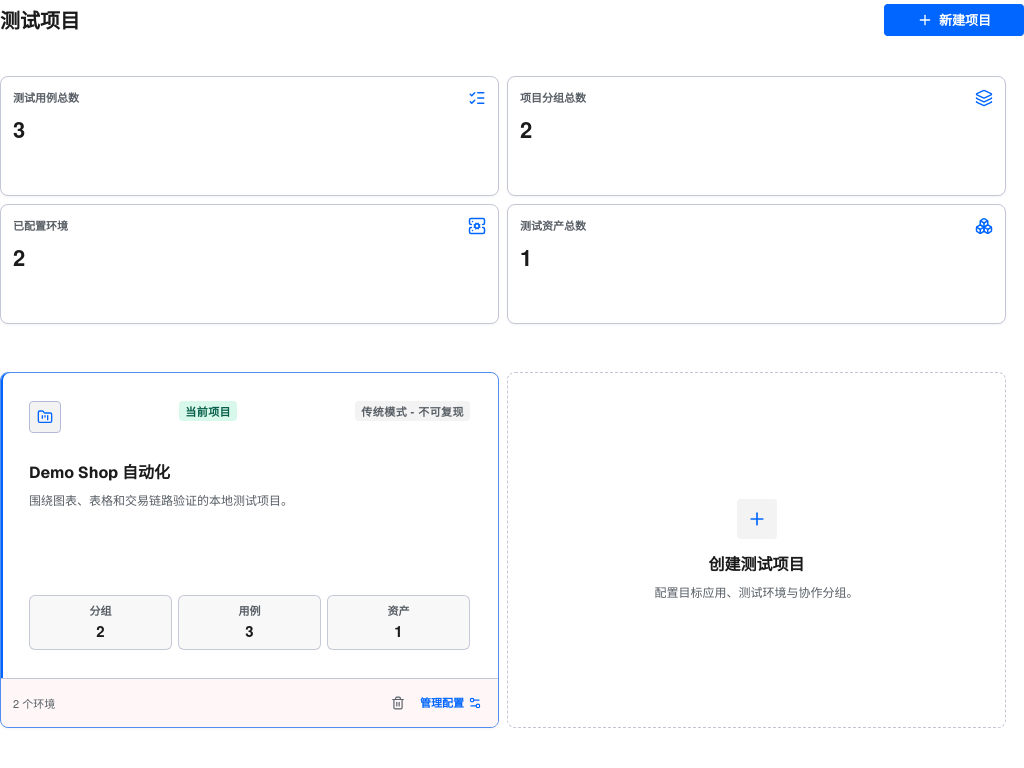
it: ProjectManagementPage › captures, refreshes, and revokes a browser authentication state without exposing its contents
Step 1. Click the button "管理配置" → (451, 703), box [416,691,486,715]
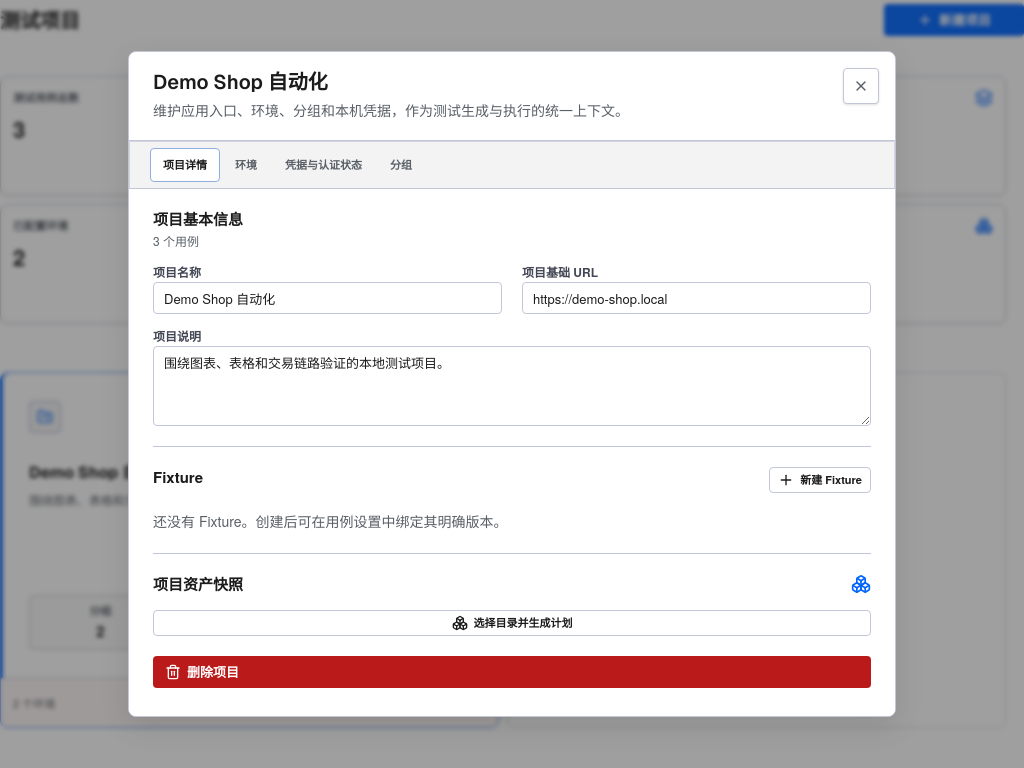
Step 2. Press the mouse on the tab "凭据与认证状态" → (324, 165), box [272,148,375,182]
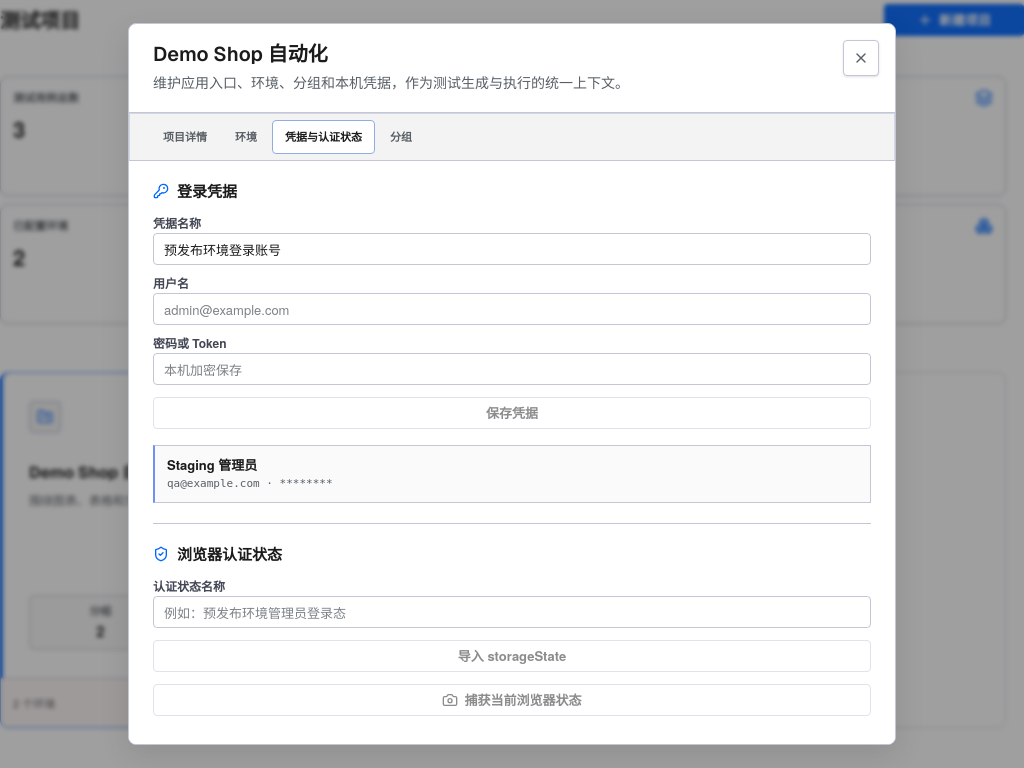
Step 3. Type "预发布管理员登录态" into the field labelled "认证状态名称" → (512, 612), box [153,596,871,628]
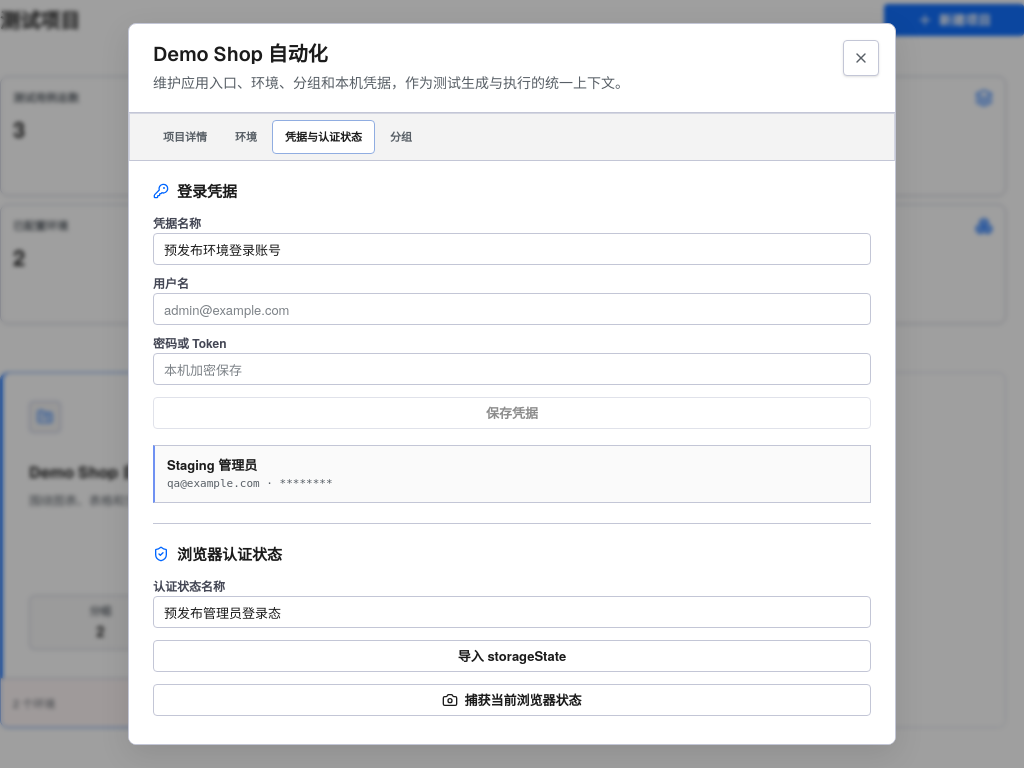
Step 4. Click the button "捕获当前浏览器状态" → (512, 700), box [153,684,871,716]
(page scrolled)
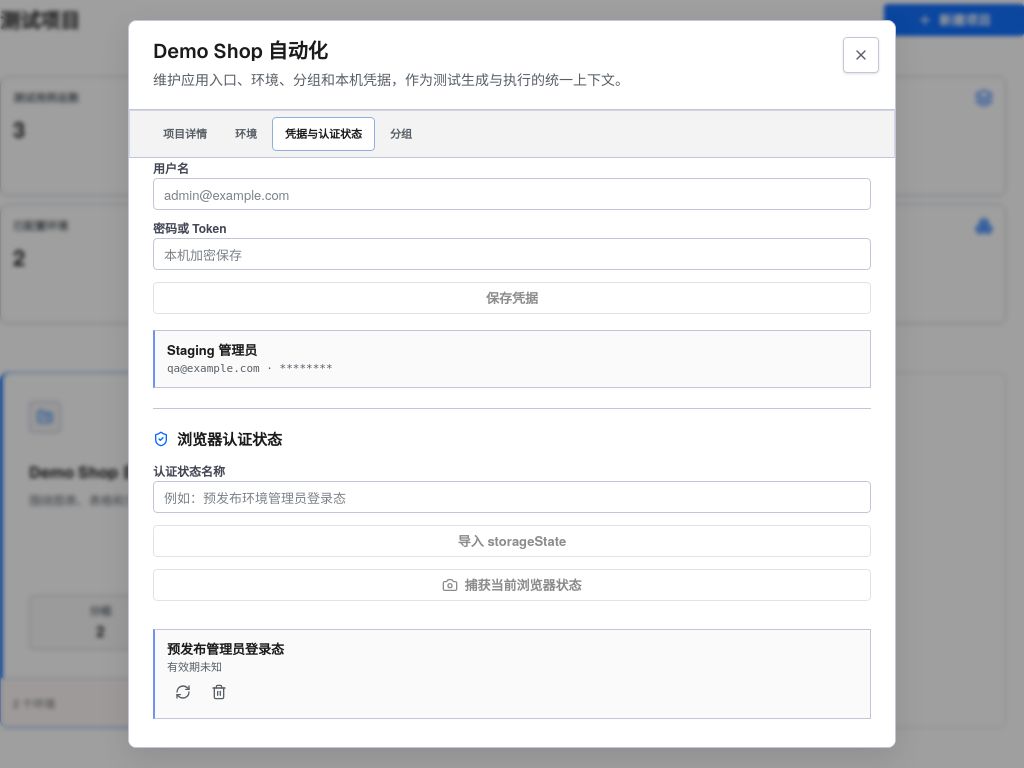
Result: the text "预发布管理员登录态" is shown at [167,639,284,658]
Step 5. Click the button named "刷新认证状态" → (183, 692), box [167,676,199,708]
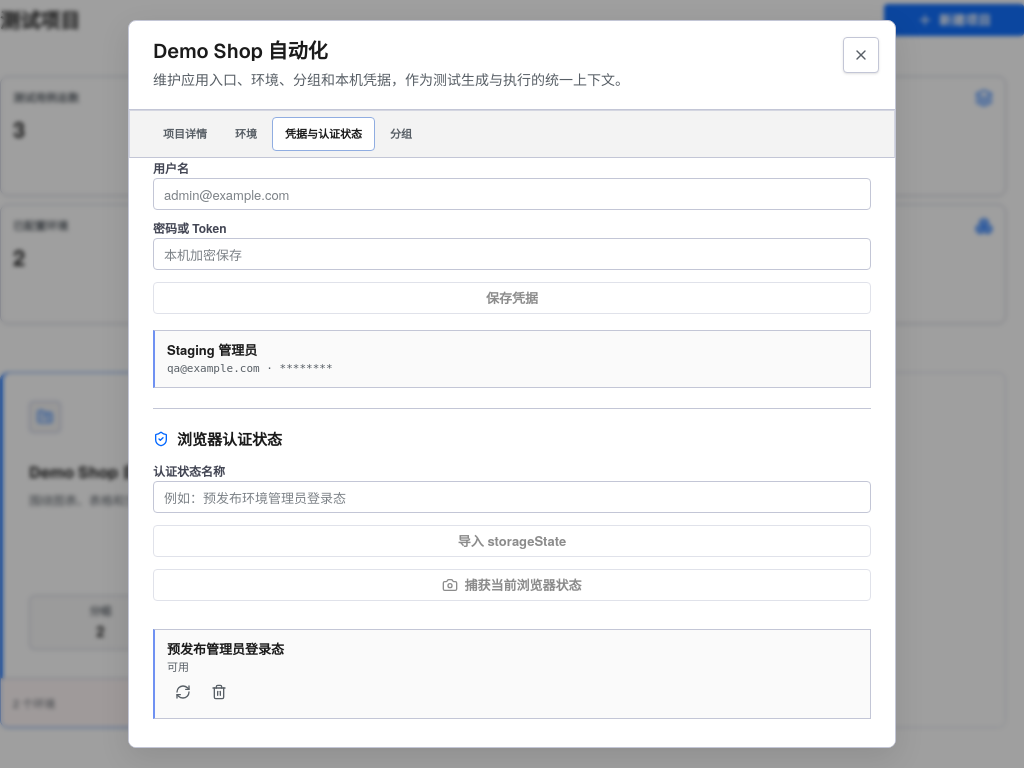
Result: the text "可用" is shown at [167,661,189,674]
Step 6. Click the button named "撤销认证状态" → (219, 692), box [203,676,235,708]
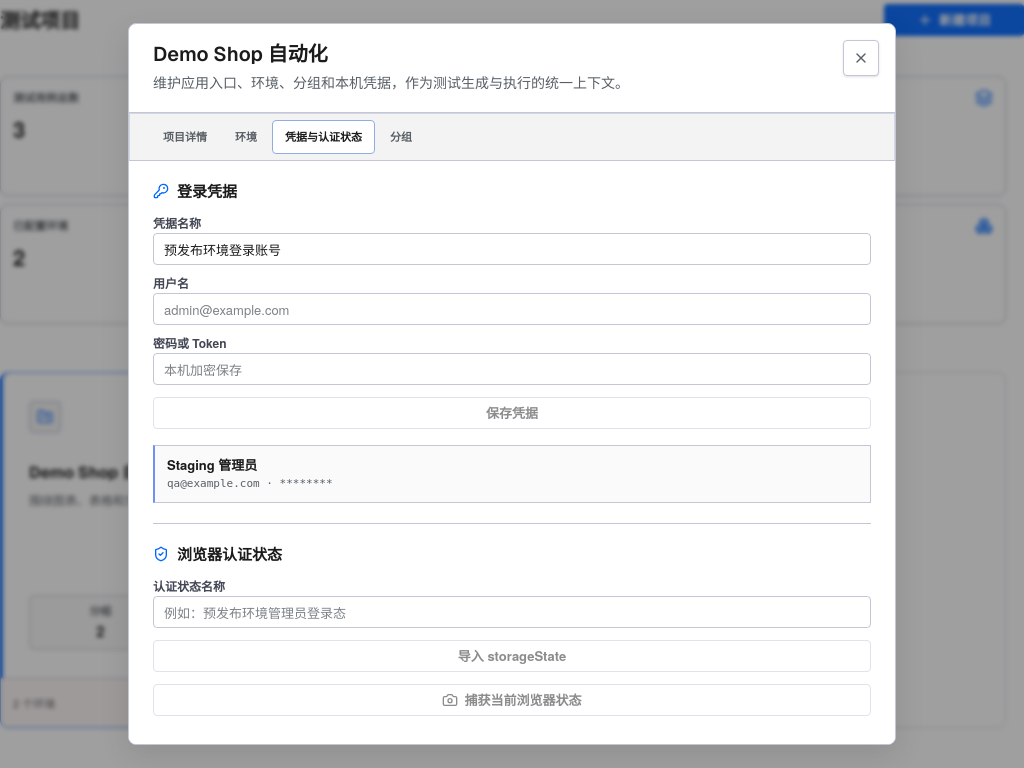
Result: the text "预发布管理员登录态" is gone
